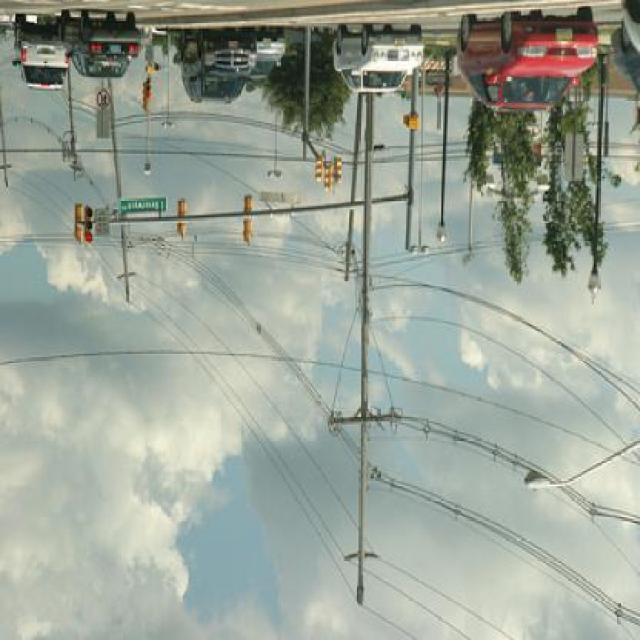pole: (352, 77, 377, 600), (397, 82, 431, 262), (436, 61, 452, 239)
